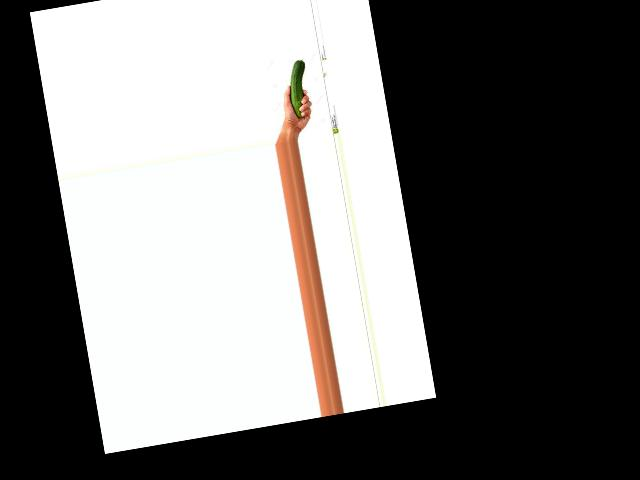cucumber: (285, 58, 313, 118)
